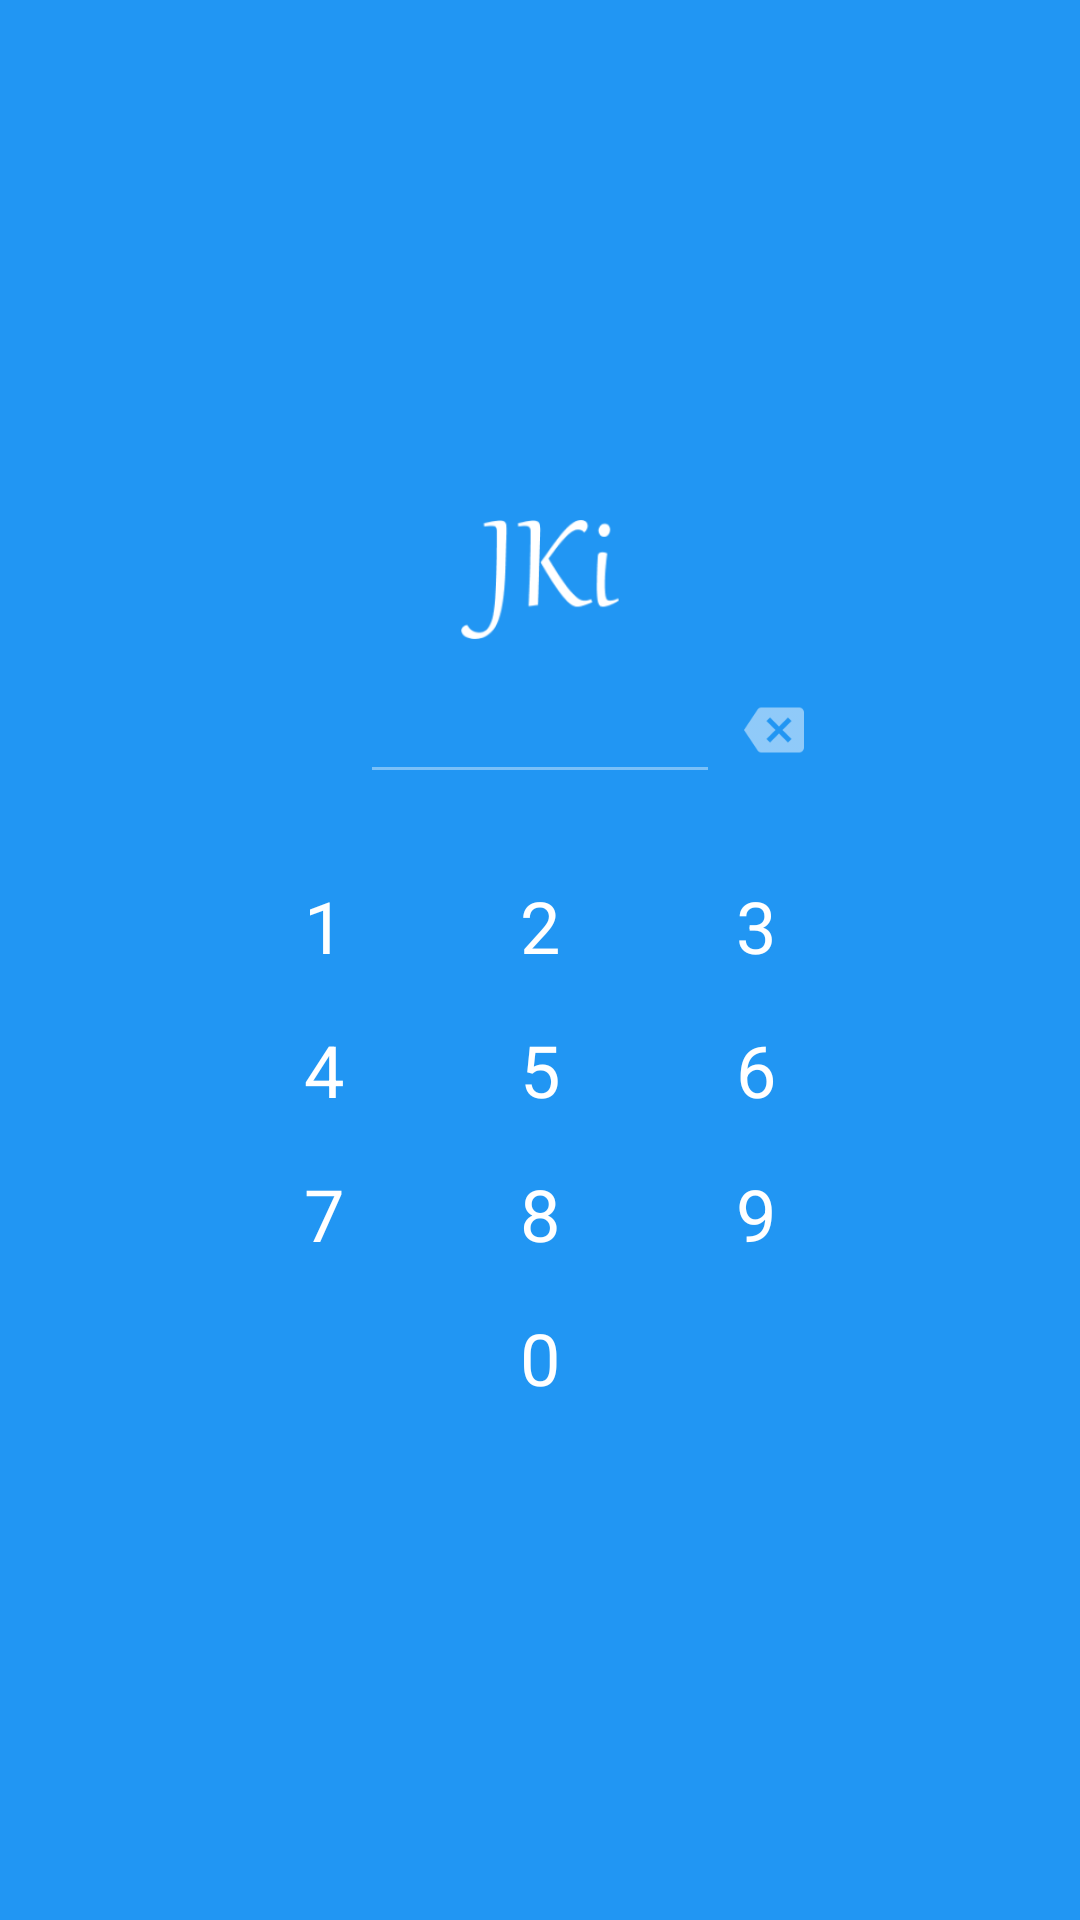

Locate icon controls on the screen. Image size 1080w x 1920h, boxes as (x1, y1, x2, y2).
Backspace: (744, 707, 804, 753)
